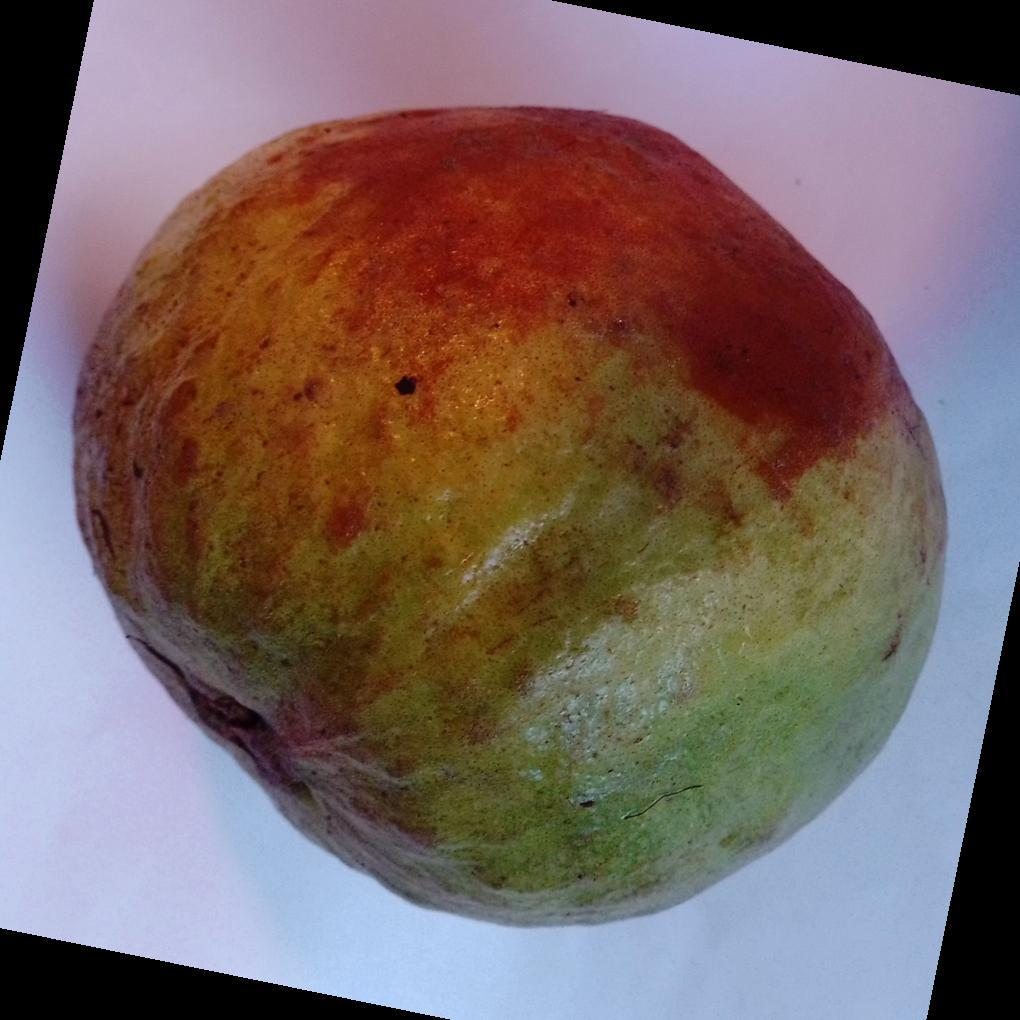FreshOrange: (70, 107, 950, 932)
